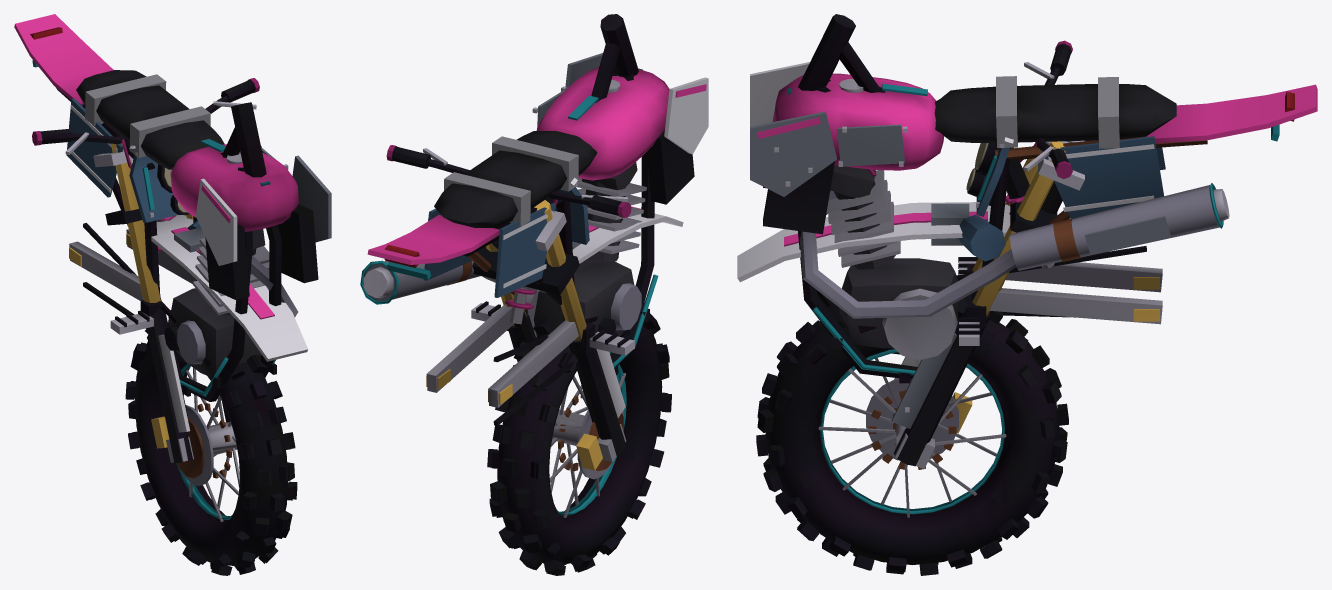
The model's file is moto.glb.
3 views of the same model, side by side, from view 1: azimuth 30°, elevation 25°; view 2: azimuth 150°, elevation 25°; view 3: azimuth 270°, elevation 25° (orthographic). The views are drawn at different scales.
Parts seen in each view (by area): view 1: quadro, roda_t, garfo, roda_f; view 2: quadro, roda_t, garfo, roda_f; view 3: quadro, roda_t, garfo, roda_f.
Boxes of the visible parts, x1,y1,x2,y2 form: quadro: (14,14,331,401); roda_t: (125,317,297,575); garfo: (32,78,308,463); roda_f: (130,310,293,575); quadro: (360,14,708,425); roda_t: (487,313,671,574); garfo: (386,145,683,470); roda_f: (491,319,667,575); quadro: (750,14,1317,383); roda_t: (757,294,1067,575); garfo: (737,40,1084,468); roda_f: (756,295,1068,574).
Size of the model in its own units: 0.7766 by 1.62 by 1.54.
